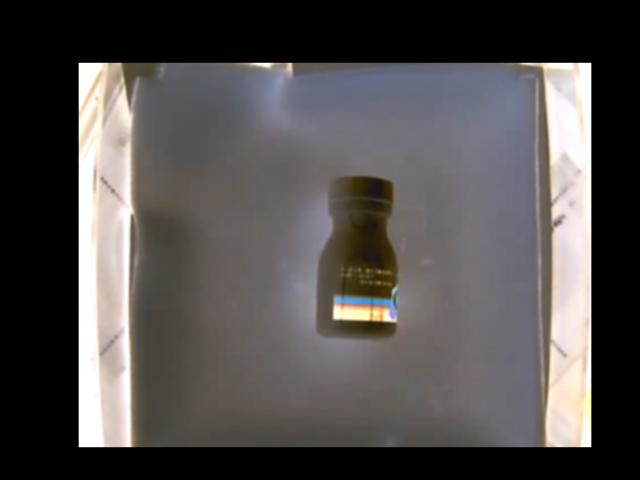Bottle: (314, 178, 399, 339)
